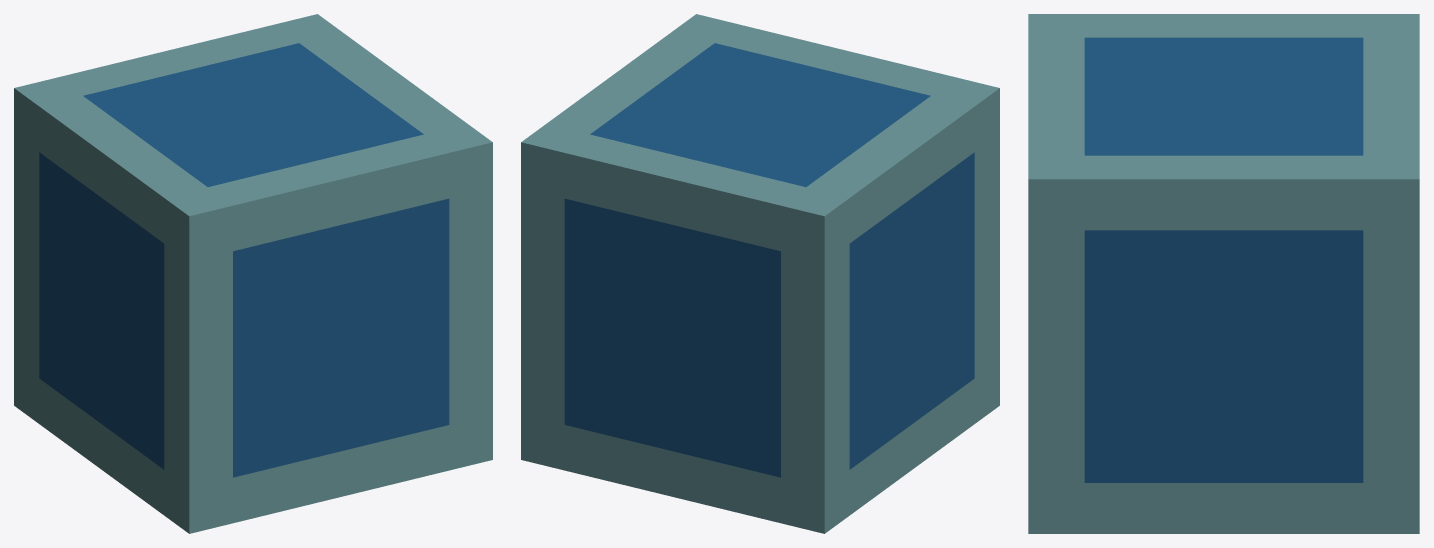
Rendered from crate2.FBX.
The picture shows the model from 3 angles, left to right: view 1: azimuth 30°, elevation 25°; view 2: azimuth 150°, elevation 25°; view 3: azimuth 270°, elevation 25°; orthographic projection. The views are drawn at different scales.
Visible parts, largest first — view 1: crate2; view 2: crate2; view 3: crate2.
Part boxes in pixels (x1=…): crate2: x1=14, y1=14, x2=492, y2=533; crate2: x1=521, y1=14, x2=999, y2=533; crate2: x1=1028, y1=14, x2=1419, y2=533.
Size of the model in its own units: 2 by 2 by 2.
